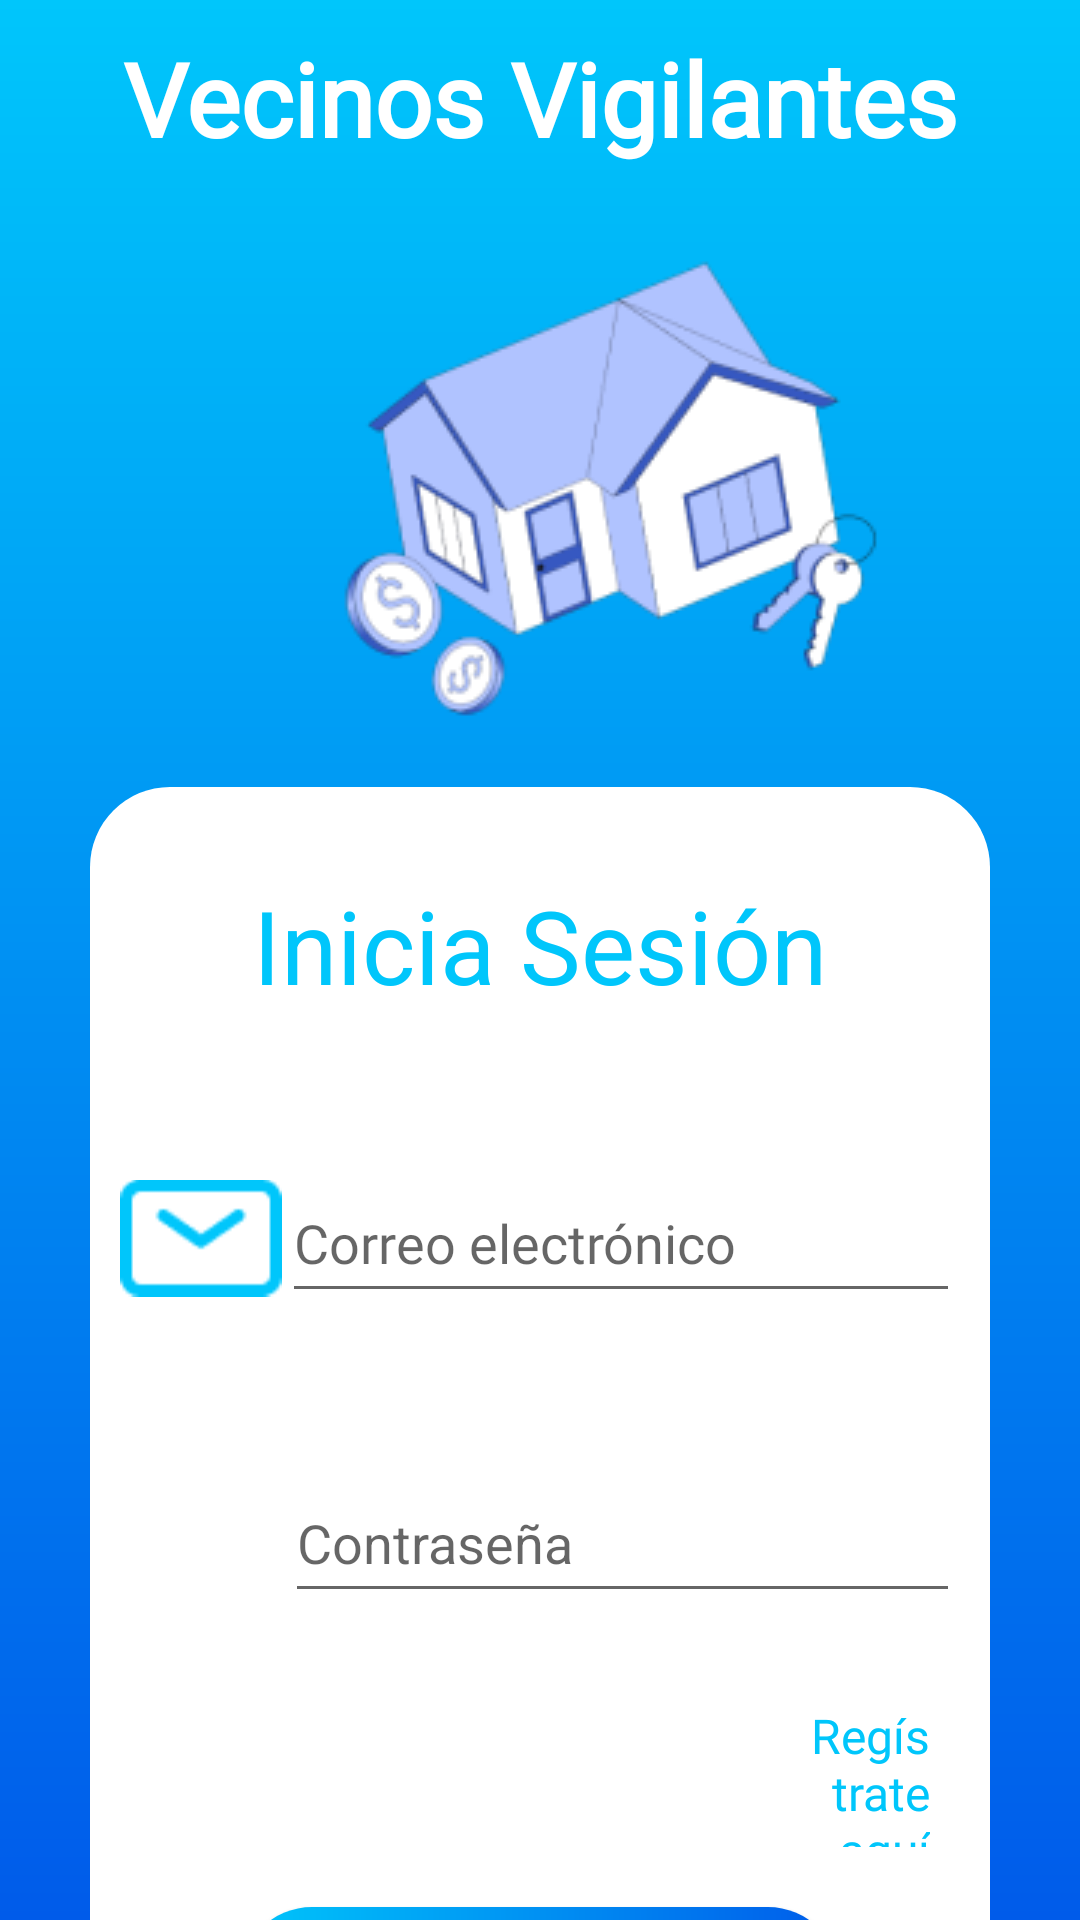

Icon click points for this 1080px x 1920px phone screenshot, format (x=x, y=y):
mail: (x=201, y=1238)
